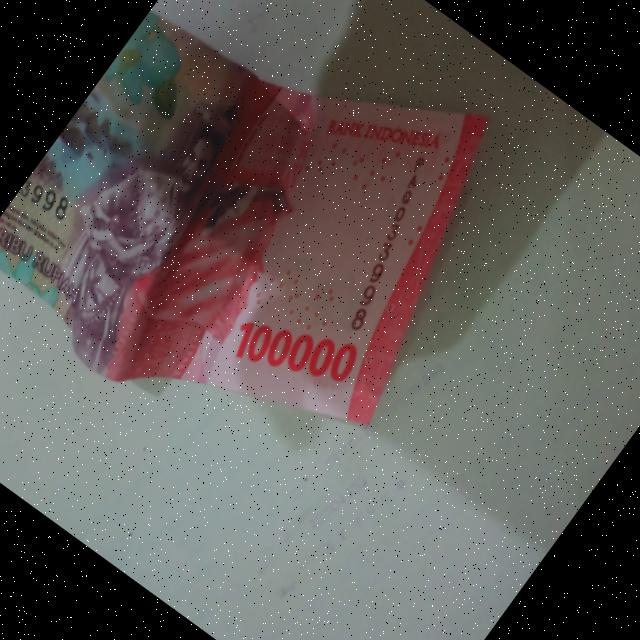100K: (0, 0, 561, 532)
